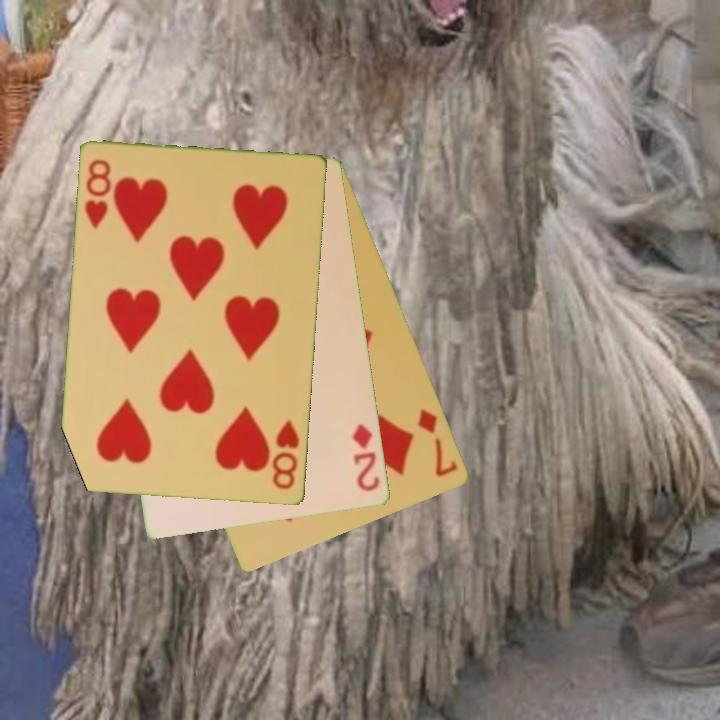2d: (349, 420, 383, 495)
7d: (414, 404, 461, 480)
8h: (269, 417, 302, 493), (81, 156, 114, 232)
